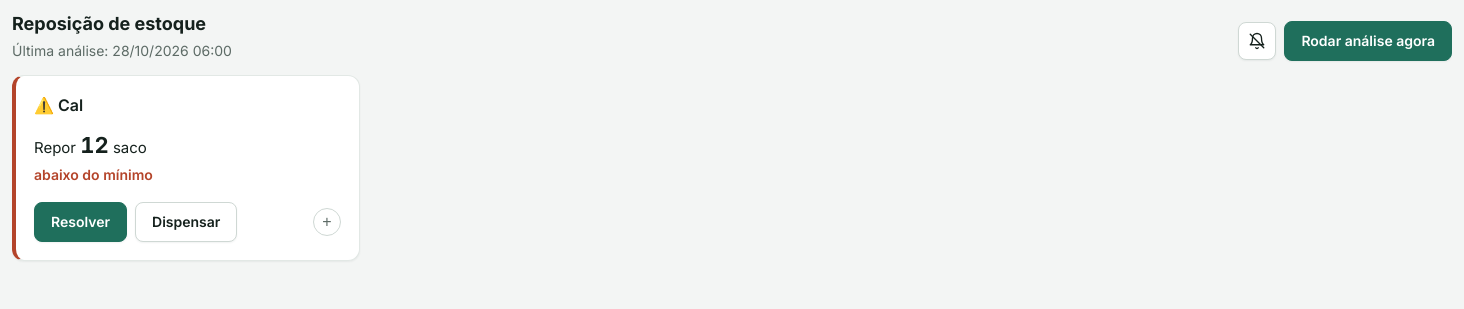
Scenario: AlertasEstoque › busca os alertas do agente e mostra material, unidade, quantidade dos campos e justificativa (EAP-26, EAP-27)
Expected: the text with test id "quantidade-sugerida" reads "12", [80,132,109,158]
Expected: the text with test id "unidade" reads "saco", [113,138,147,157]
Click the button named "Ver detalhes" at (327, 222), box [313,208,341,236]
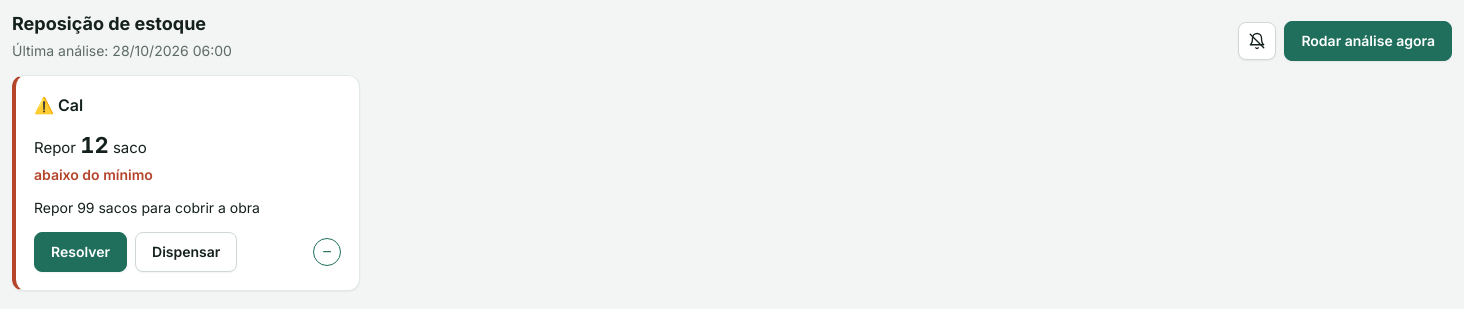
Result: the text "Repor 99 sacos para cobrir a obra" is shown at [34,199,260,216]
